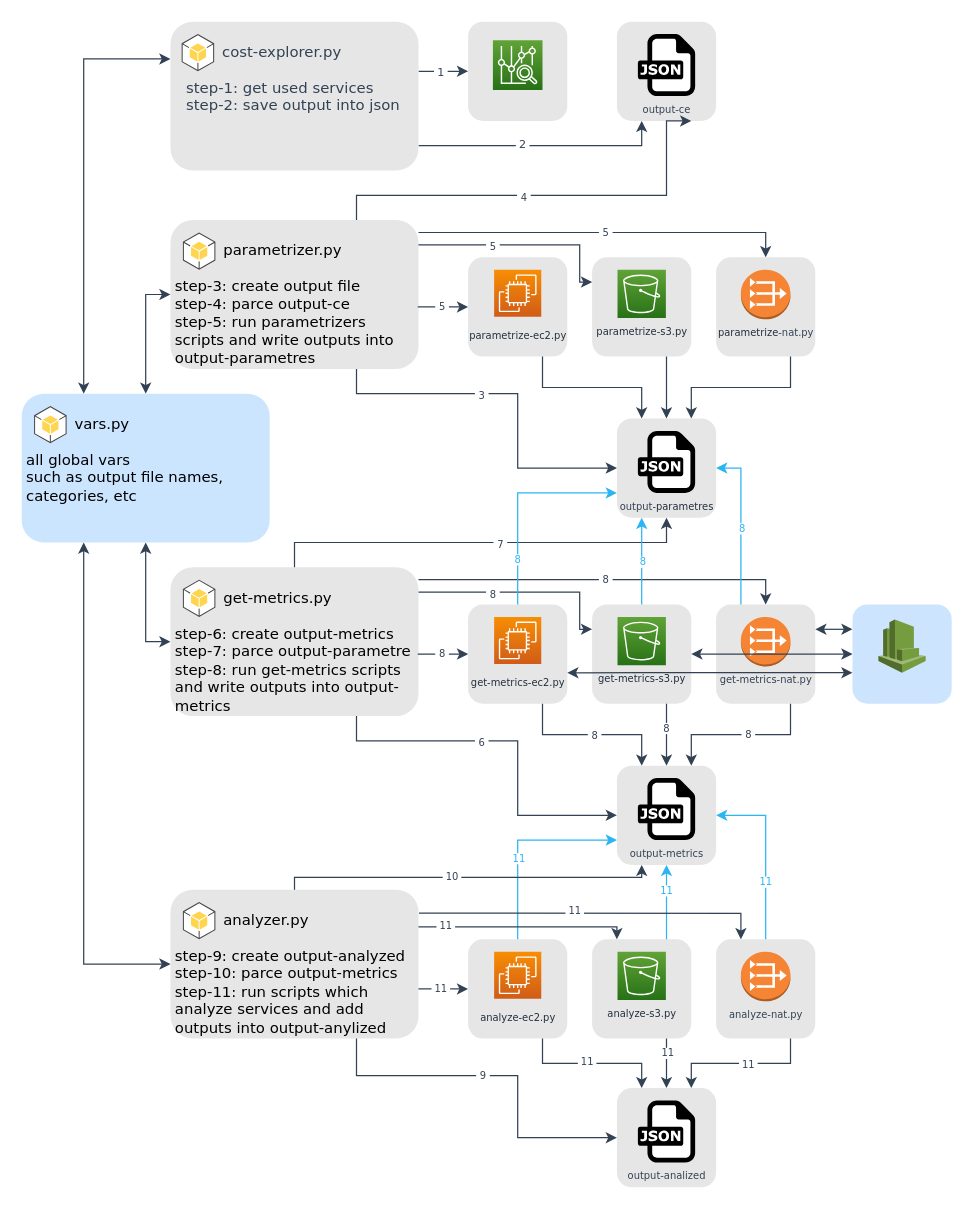
Image size: 972x1208. Some labels were removed from this diagram. The box of each missing label's shape, as (x1, y1, x2, y2) in pixels:
Cloud Watch: (877, 618, 926, 673)
Cost Explorer: (492, 39, 542, 90)
